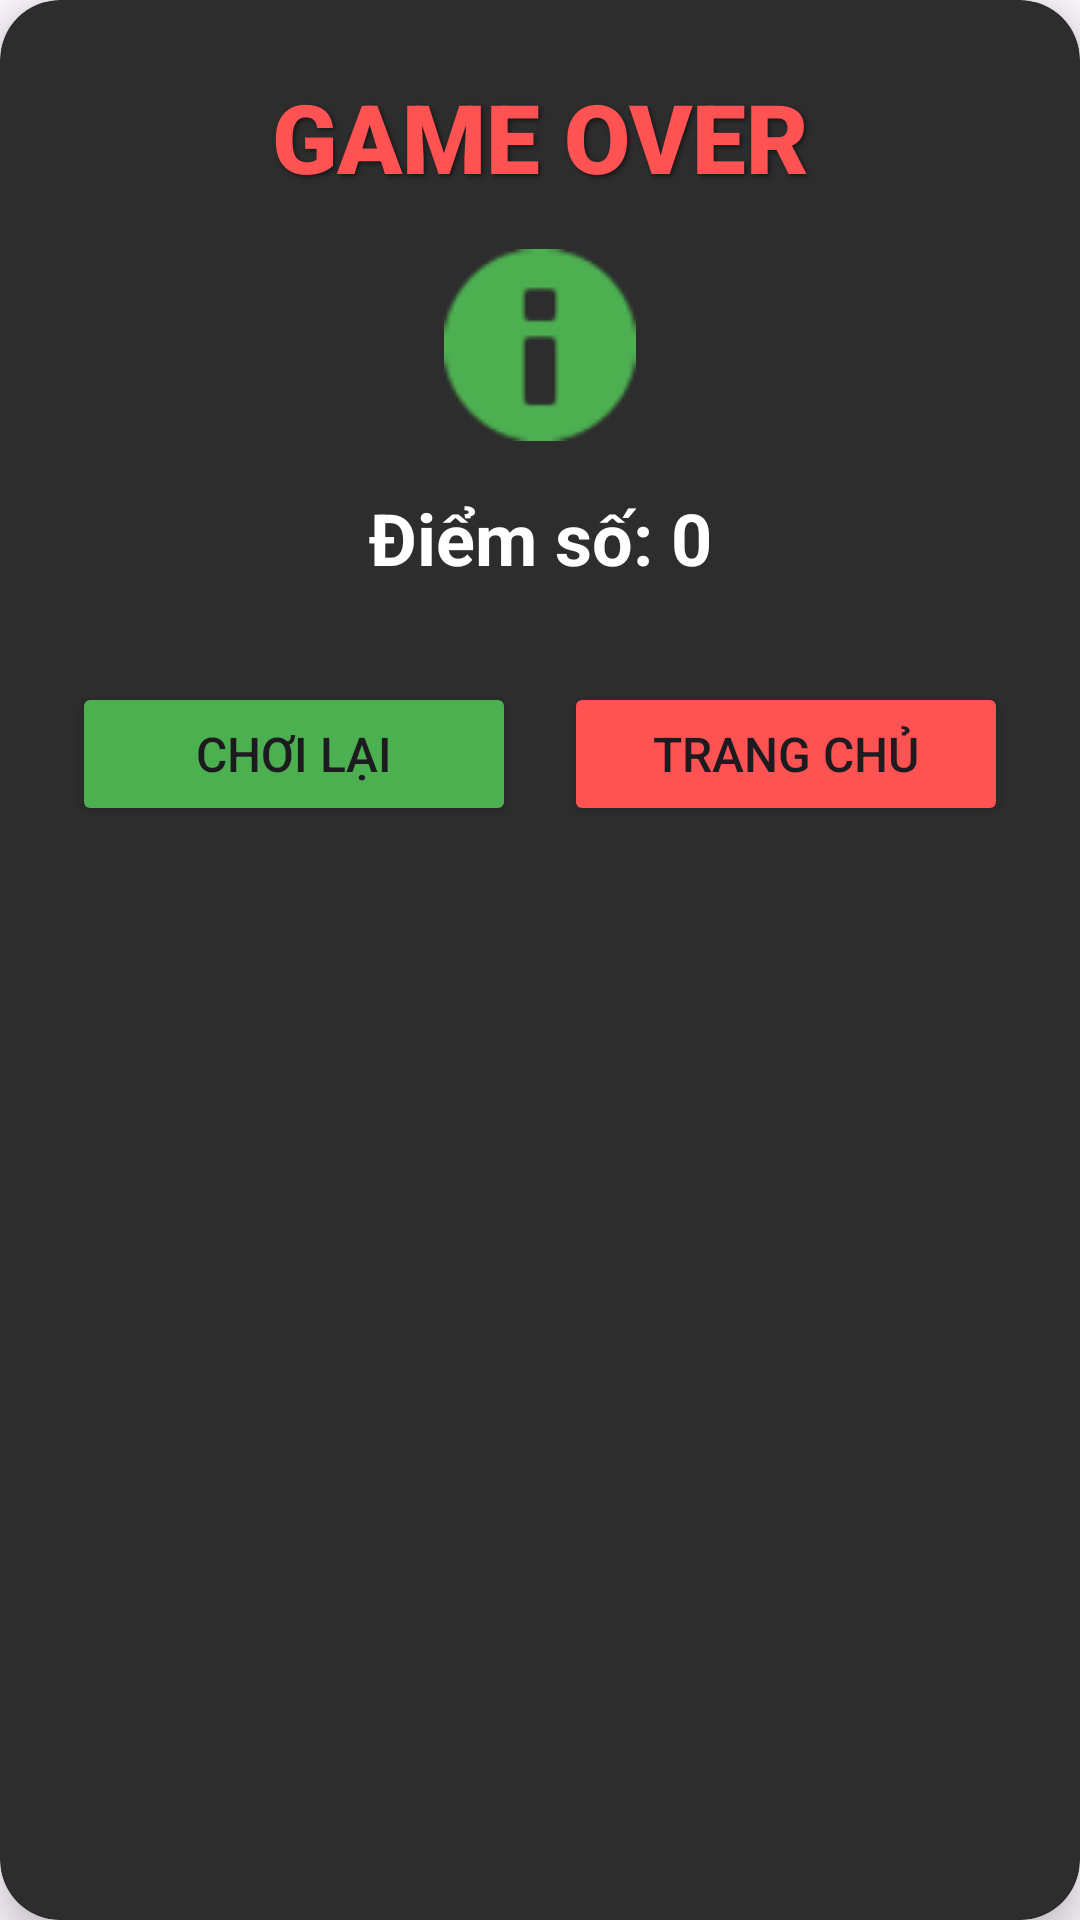

Screen size 1080w x 1920h. Icon name, then its box in pixels as (x1, y1, x2, y2):
info: (444, 249, 636, 441)
